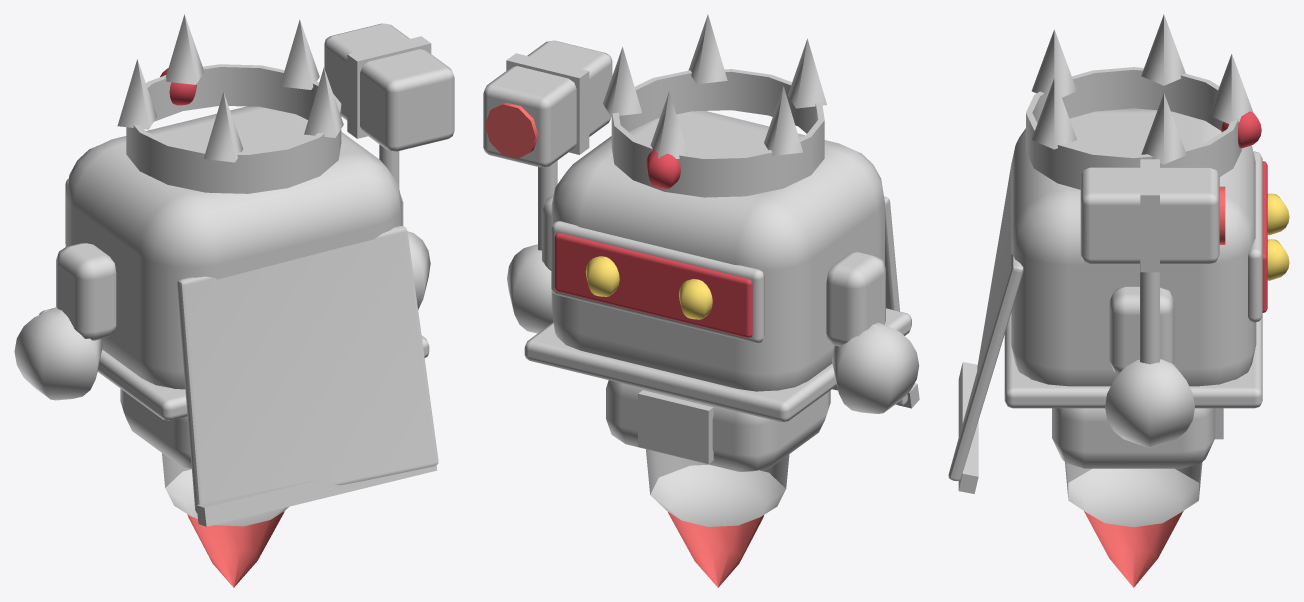
The model's file is WreckKing.glb.
3 views of the same model, side by side, from view 1: azimuth 30°, elevation 25°; view 2: azimuth 150°, elevation 25°; view 3: azimuth 270°, elevation 25° (orthographic).
Visible parts, largest first — view 1: Body, Flame, Visor; view 2: Body, Visor, Flame, Gold; view 3: Body, Flame, Visor, Gold.
Boxes of the visible parts, <box> form: Body: <box>14,14,454,526</box>; Flame: <box>187,511,284,587</box>; Visor: <box>160,68,196,105</box>; Body: <box>483,14,919,526</box>; Visor: <box>554,150,752,337</box>; Flame: <box>485,102,763,587</box>; Gold: <box>585,256,712,319</box>; Body: <box>948,14,1262,527</box>; Flame: <box>1084,186,1225,587</box>; Visor: <box>1221,111,1267,312</box>; Gold: <box>1267,193,1289,280</box>.
Size of the model in its own units: 2.82 by 3.61 by 2.09.
